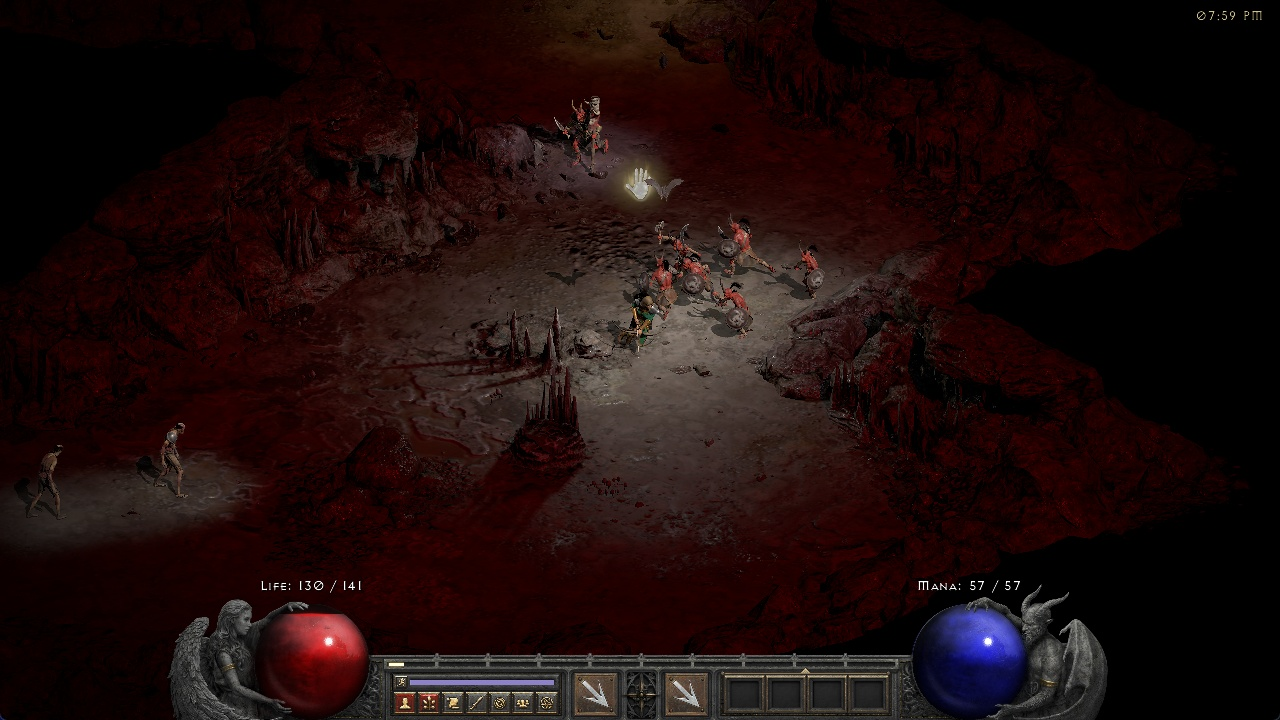fallen: (715, 216, 773, 278), (712, 279, 755, 336), (789, 243, 828, 298), (649, 216, 699, 257), (647, 261, 676, 308), (680, 259, 712, 299)
